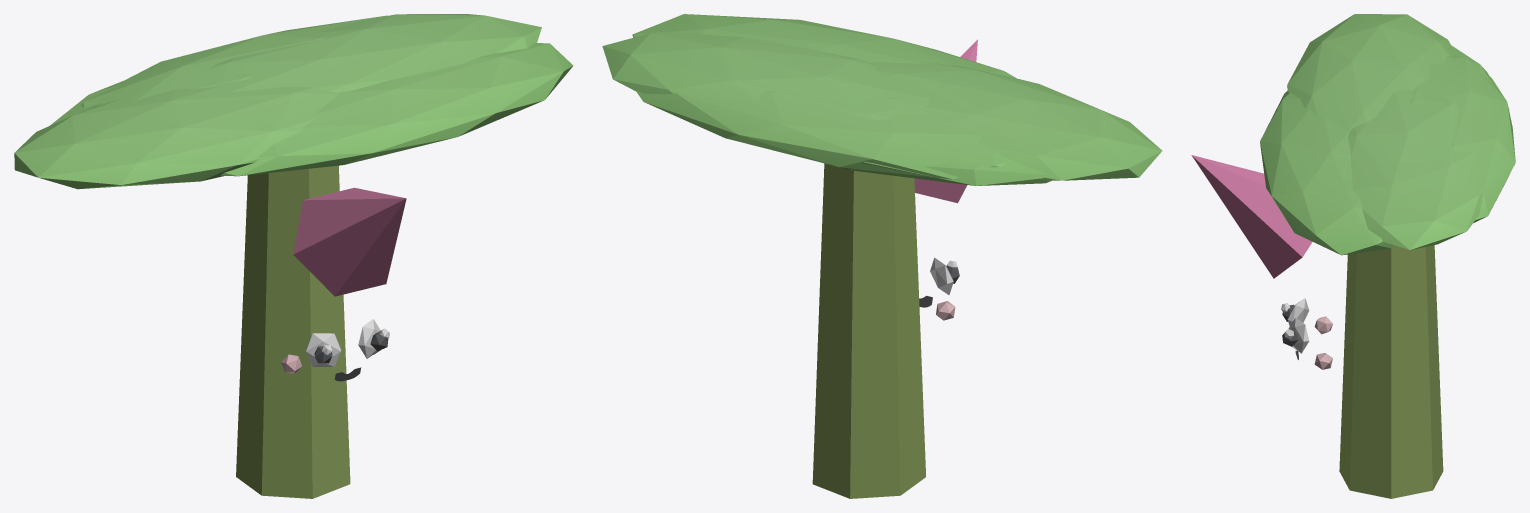
File: musa-acuminata.glb
The picture shows the model from 3 angles, left to right: view 1: azimuth 30°, elevation 25°; view 2: azimuth 150°, elevation 25°; view 3: azimuth 270°, elevation 25°; orthographic projection. The views are drawn at different scales.
Visible parts, largest first — view 1: pseudostem, leaf2, leaf1, leaf0, bloom, leaf3, pface-eye-r; view 2: pseudostem, leaf2, leaf0, leaf3, leaf1, leaf4, bloom; view 3: pseudostem, leaf0, leaf2, leaf1, leaf3, bloom, pface-eye-l.
Part boxes in pixels (left/top/right/bottom): pseudostem: left=236, top=165, right=350, bottom=498; leaf2: left=14, top=86, right=339, bottom=189; leaf1: left=220, top=43, right=573, bottom=176; leaf0: left=209, top=14, right=541, bottom=92; bloom: left=293, top=187, right=406, bottom=296; leaf3: left=81, top=15, right=387, bottom=108; pface-eye-r: left=306, top=333, right=341, bottom=366; pseudostem: left=812, top=163, right=925, bottom=498; leaf2: left=870, top=62, right=1162, bottom=180; leaf0: left=602, top=33, right=930, bottom=119; leaf3: left=635, top=90, right=1007, bottom=179; leaf1: left=632, top=14, right=1016, bottom=78; leaf4: left=836, top=146, right=1051, bottom=185; bloom: left=914, top=39, right=977, bottom=203; pseudostem: left=1339, top=245, right=1443, bottom=498; leaf0: left=1348, top=90, right=1483, bottom=249; leaf2: left=1287, top=14, right=1450, bottom=131; leaf1: left=1260, top=91, right=1394, bottom=255; leaf3: left=1410, top=54, right=1515, bottom=222; bloom: left=1191, top=155, right=1312, bottom=278; pface-eye-l: left=1289, top=317, right=1309, bottom=353.
Size of the model in its own units: 0.6235 by 0.446 by 0.3653.
